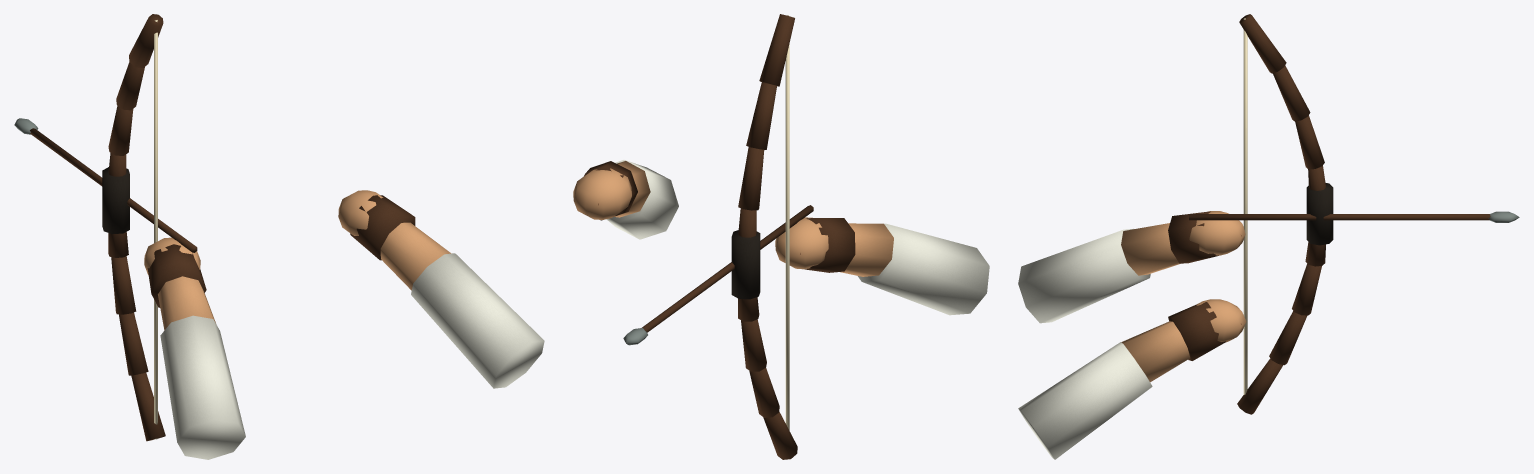
File: fp_archer.glb
The picture shows the model from 3 angles, left to right: view 1: azimuth 30°, elevation 25°; view 2: azimuth 150°, elevation 25°; view 3: azimuth 270°, elevation 25°; orthographic projection. The views are drawn at different scales.
Visible parts, largest first — view 1: First person archer; view 2: First person archer; view 3: First person archer.
Boxes of the visible parts, bbox=[...] form: First person archer: bbox=[14, 14, 544, 459]; First person archer: bbox=[573, 14, 989, 459]; First person archer: bbox=[1018, 14, 1519, 459].
Size of the model in its own units: 0.9017 by 1.01 by 1.15.
2 materials, 2 textured.
